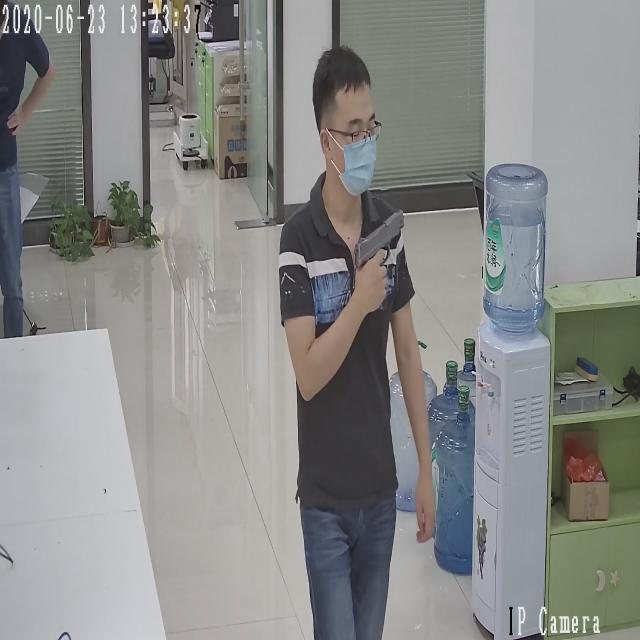gun-knife-thesis - v11 Yolov5 augmented: (353, 204, 407, 312)
